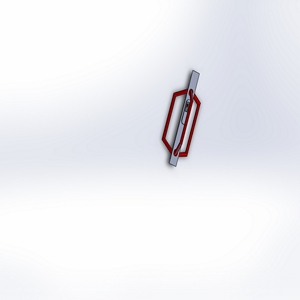submarine: (149, 65, 220, 172)
